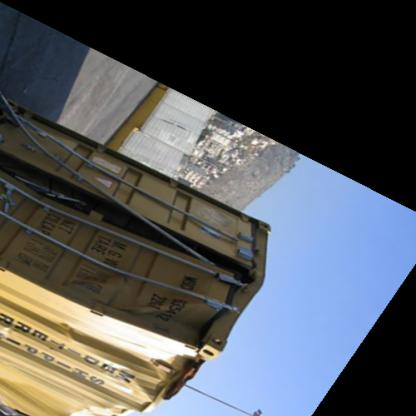Damage: (13, 181, 252, 298), (25, 368, 133, 415)
